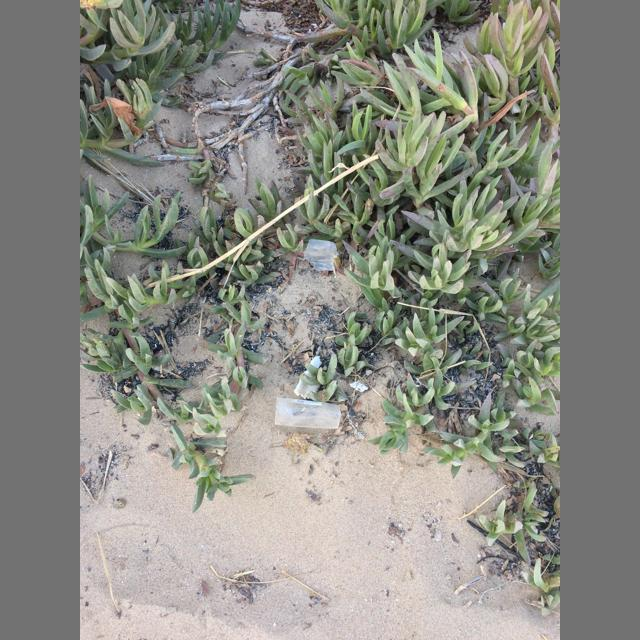litter: (275, 397, 341, 428), (297, 239, 339, 274), (294, 356, 322, 399), (349, 381, 368, 392)
